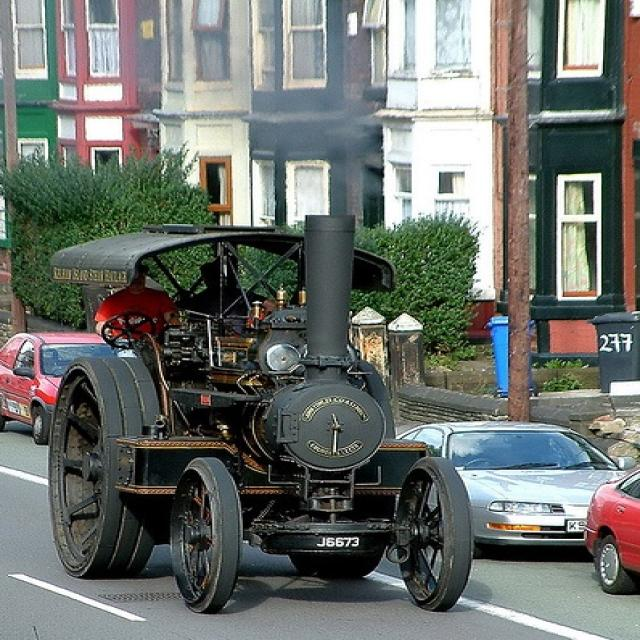car: (394, 421, 629, 559), (0, 330, 117, 446), (586, 467, 638, 595)
